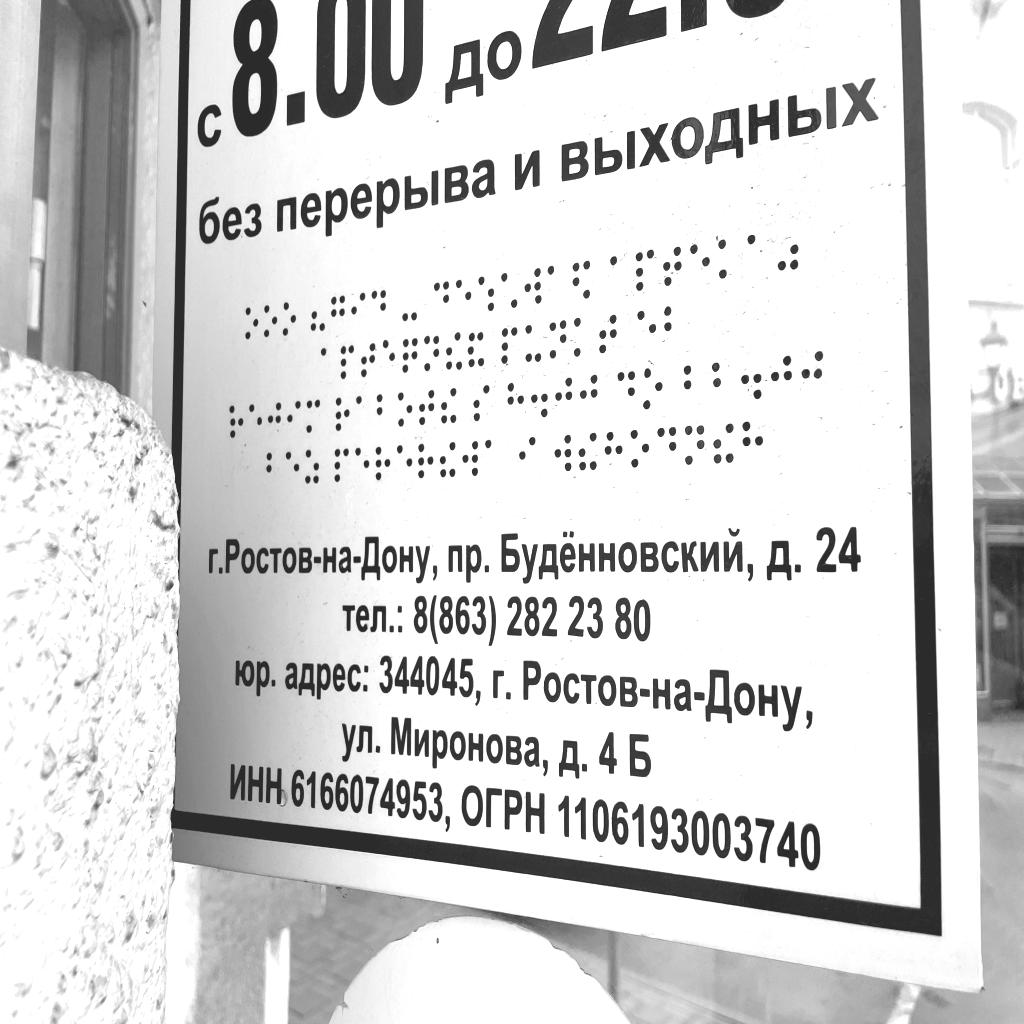_n: (683, 424, 706, 466), (549, 319, 568, 359), (423, 334, 441, 372)
_y: (524, 324, 543, 363)
a: (747, 233, 768, 277), (609, 256, 628, 294), (484, 439, 503, 475), (547, 265, 565, 301), (355, 395, 371, 433), (320, 347, 337, 381)
b: (376, 393, 393, 431), (266, 452, 282, 489)
ch: (402, 338, 419, 374)
d: (657, 426, 677, 469), (617, 369, 635, 410), (433, 280, 450, 318), (371, 289, 388, 324)
defis: (402, 289, 418, 321)
e: (690, 242, 711, 283), (396, 443, 414, 482), (455, 279, 472, 317), (354, 447, 370, 485), (285, 450, 301, 487), (382, 339, 397, 376), (248, 403, 263, 439)
g: (329, 295, 346, 331)
gh: (267, 402, 282, 437)
i: (519, 436, 536, 476), (351, 291, 367, 327), (287, 400, 301, 436)
iKratkoe: (468, 331, 485, 368)
ii: (713, 422, 735, 465), (578, 431, 598, 472), (440, 385, 457, 425), (445, 332, 462, 371), (440, 440, 457, 479)
k: (718, 238, 740, 280), (573, 316, 594, 359)
kavichki1: (310, 299, 326, 332)
kavichki2: (777, 228, 800, 272)
m: (306, 398, 320, 434)
o: (642, 367, 663, 410), (629, 429, 651, 469), (397, 390, 415, 429), (244, 306, 259, 341), (282, 302, 296, 337), (263, 305, 277, 338)
p: (635, 249, 655, 292), (501, 326, 518, 366), (334, 447, 349, 484), (340, 345, 355, 381)
r: (375, 444, 392, 482), (418, 442, 435, 480), (335, 395, 351, 433), (229, 404, 244, 439)
s: (473, 383, 490, 423)
sh: (477, 275, 495, 313)
t: (663, 244, 683, 288), (599, 314, 618, 356), (418, 388, 435, 427), (361, 341, 376, 380)
tochka: (740, 356, 762, 400), (530, 377, 548, 418)
v: (460, 439, 479, 478), (554, 433, 572, 473), (524, 267, 542, 306)
x: (742, 420, 765, 464), (604, 431, 623, 473)
ya: (572, 259, 592, 300)
yo: (501, 272, 518, 309)
z: (304, 448, 321, 486)
